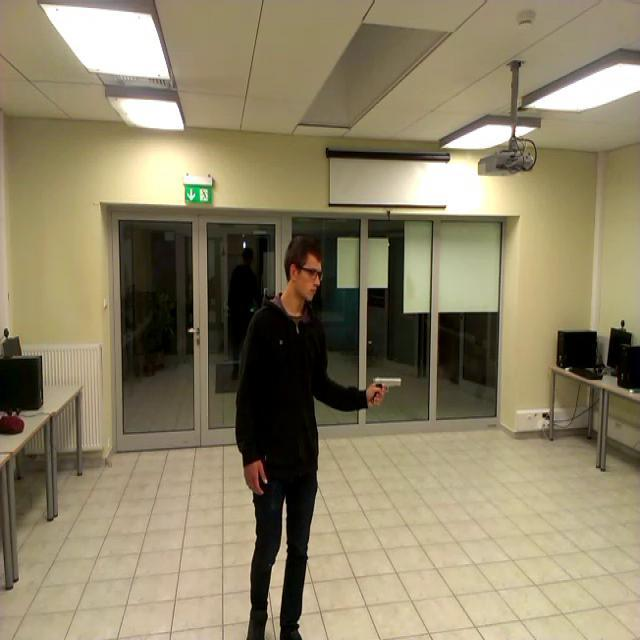Gun: (372, 376, 402, 402)
